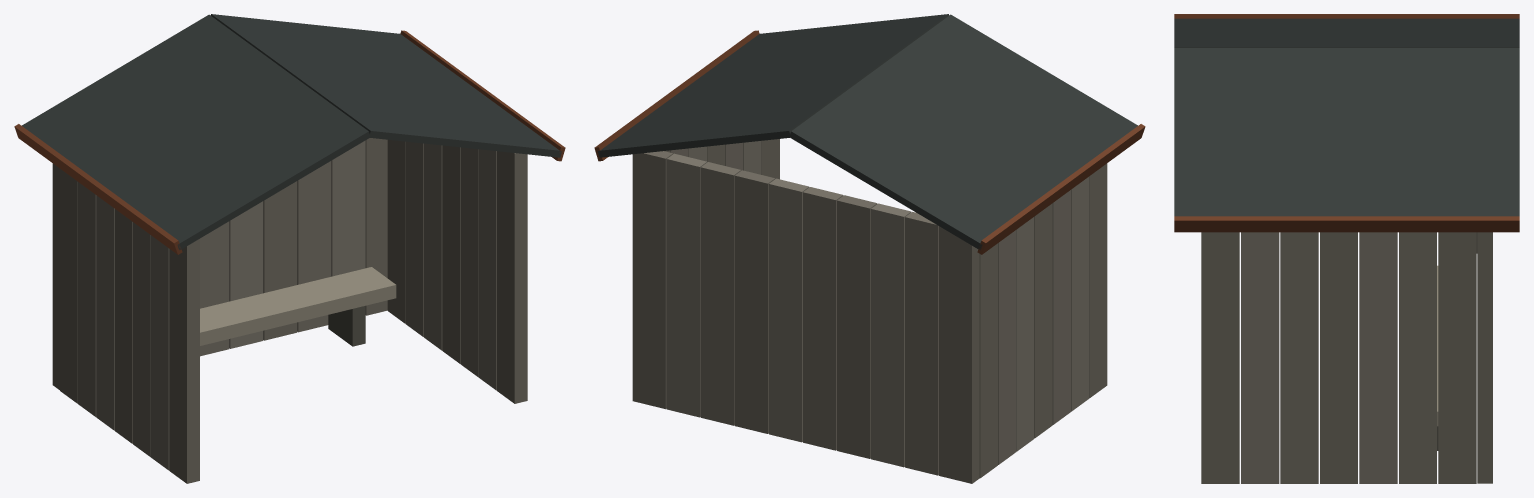
File: leskur.glb
3 renders of one model, left to right at view 1: azimuth 30°, elevation 25°; view 2: azimuth 150°, elevation 25°; view 3: azimuth 270°, elevation 25°, orthographic. The views are drawn at different scales.
Visible parts, largest first — view 1: leskur; view 2: leskur; view 3: leskur.
Boxes of the visible parts, bbox=[...] form: leskur: bbox=[14, 14, 565, 483]; leskur: bbox=[594, 14, 1145, 483]; leskur: bbox=[1174, 14, 1519, 483].
Size of the model in its own units: 3.68 by 2.88 by 2.6.
